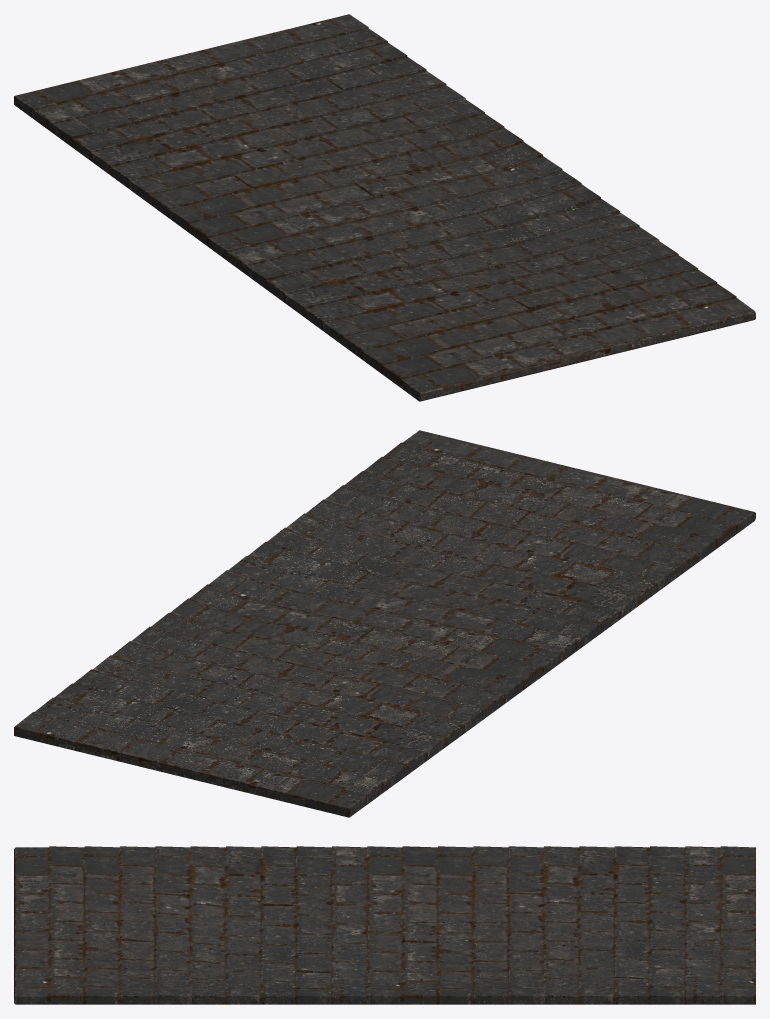
The model's file is RoofNarrow.fbx.
3 views of the same model, one above another, from view 1: azimuth 30°, elevation 25°; view 2: azimuth 150°, elevation 25°; view 3: azimuth 270°, elevation 25° (orthographic). The views are drawn at different scales.
Visible parts, largest first — view 1: Roof_LOD0; view 2: Roof_LOD0; view 3: Roof_LOD0.
Boxes of the visible parts, left/top/right/bottom form: Roof_LOD0: left=14, top=14, right=755, bottom=401; Roof_LOD0: left=14, top=430, right=755, bottom=817; Roof_LOD0: left=14, top=846, right=755, bottom=1004.
Size of what is drawn, in the model's own units: 200 by 9.42 by 420.
